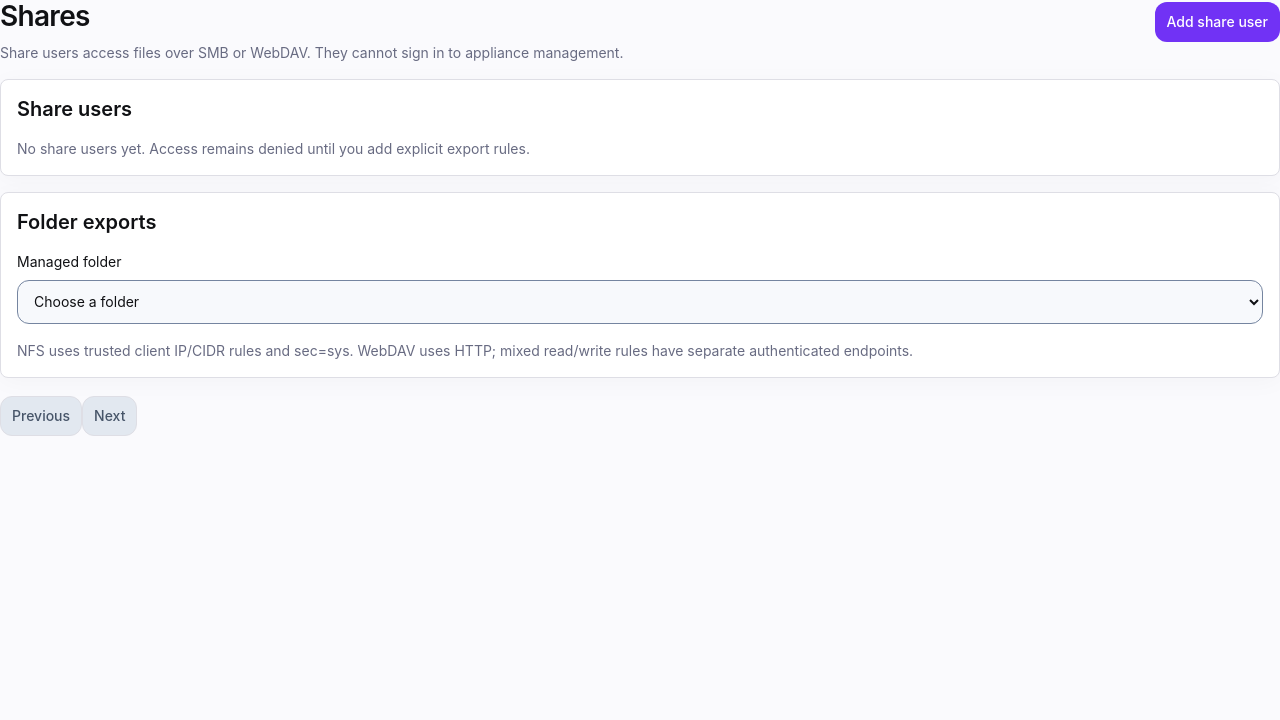
Test: share account creation uses a focused dialog and no permanent password form
Expected: the text "No share users yet" is shown, [17, 140, 530, 157]
Expected: the field labelled "Password" is not shown
Click the button "Add share user" at (1217, 22), box [1154, 0, 1279, 44]
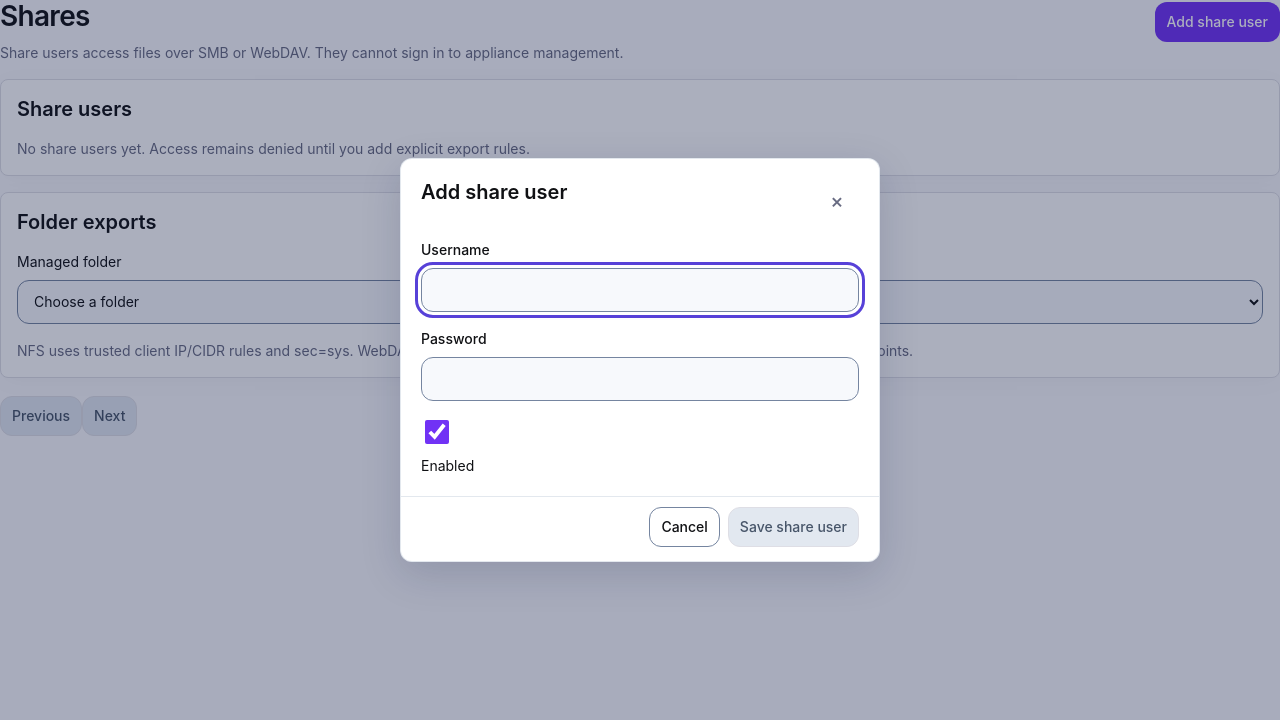
Now the dialog "Add share user" is shown, box [400, 158, 880, 562]
